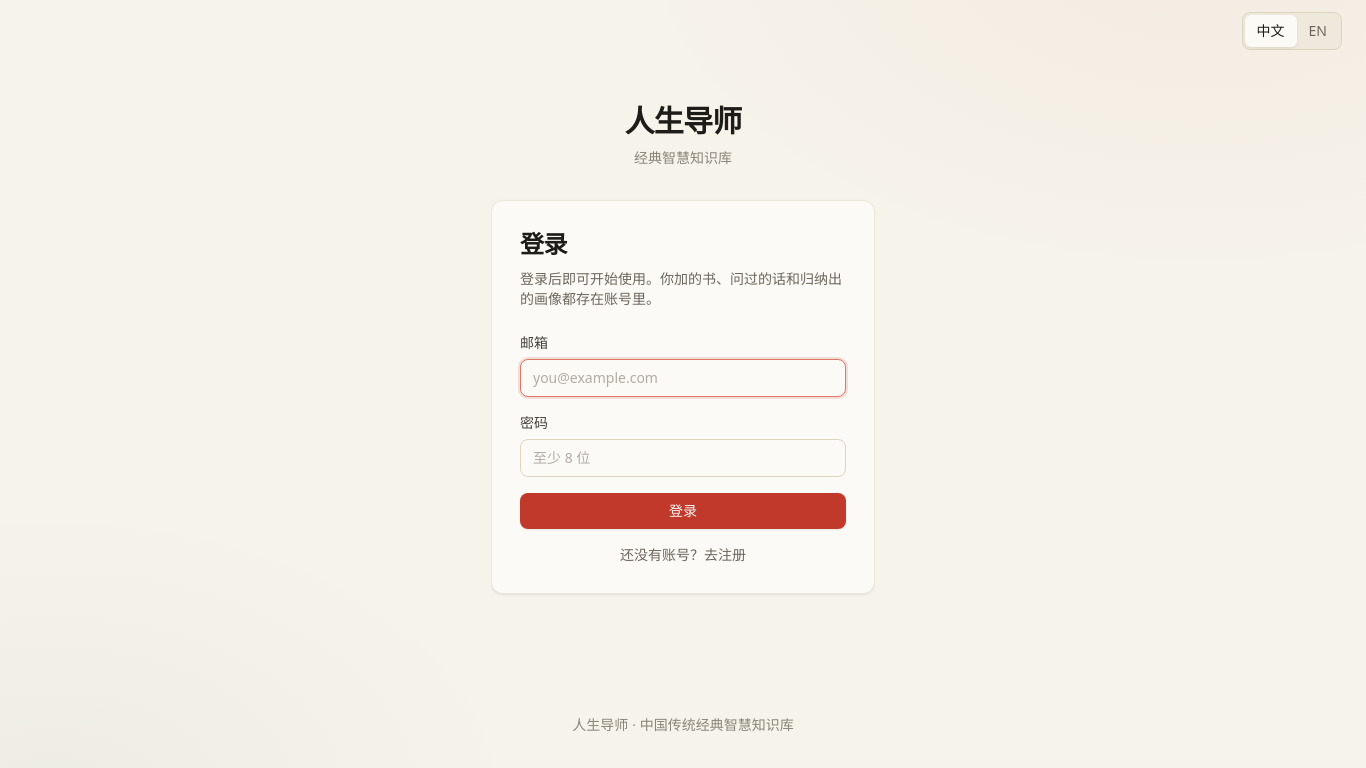
登录完成后回到原来那一页 › 从首页进来的，登完就落在首页
Type "alice@example.com" into the field labelled "邮箱". click: (683, 378)
box: [520,359,846,397]
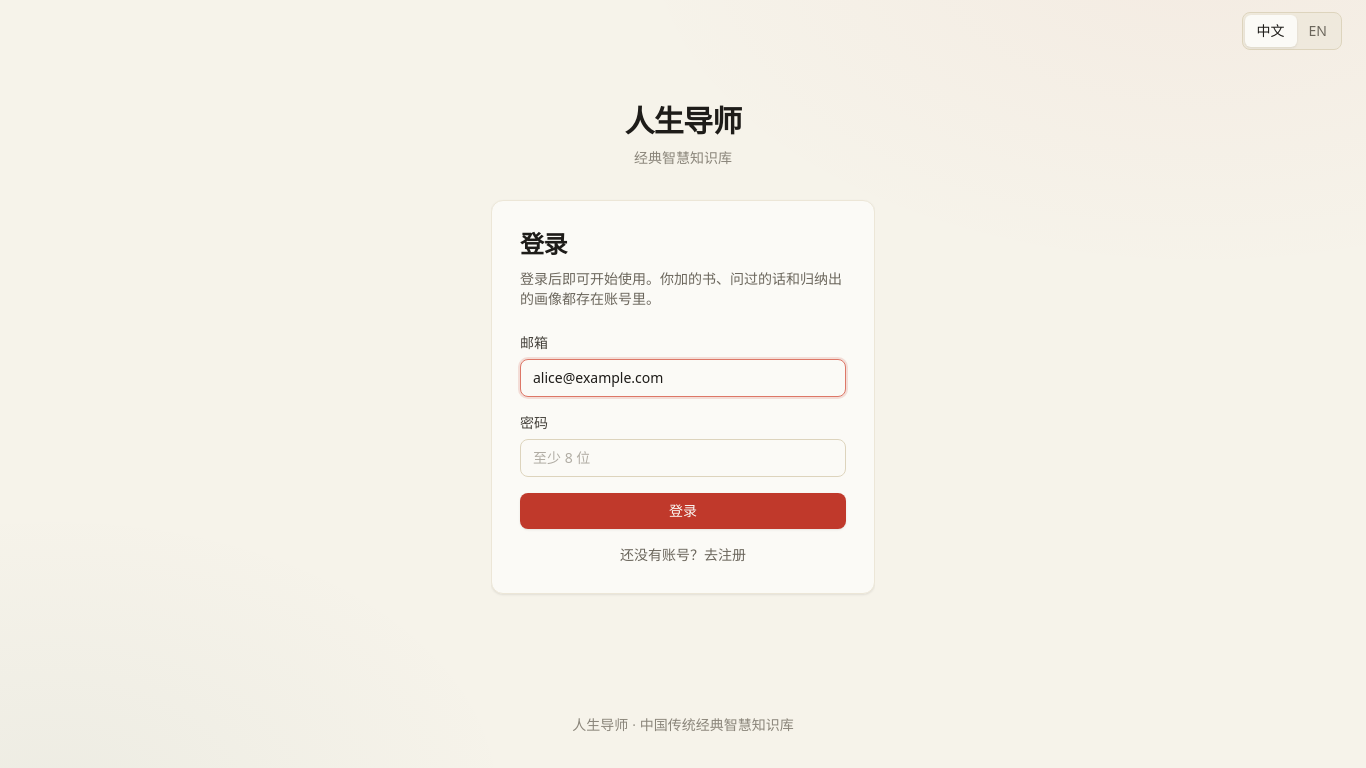
Type "goodpass123" into the password field labelled "密码". click: (683, 458)
box: [520,439,846,477]
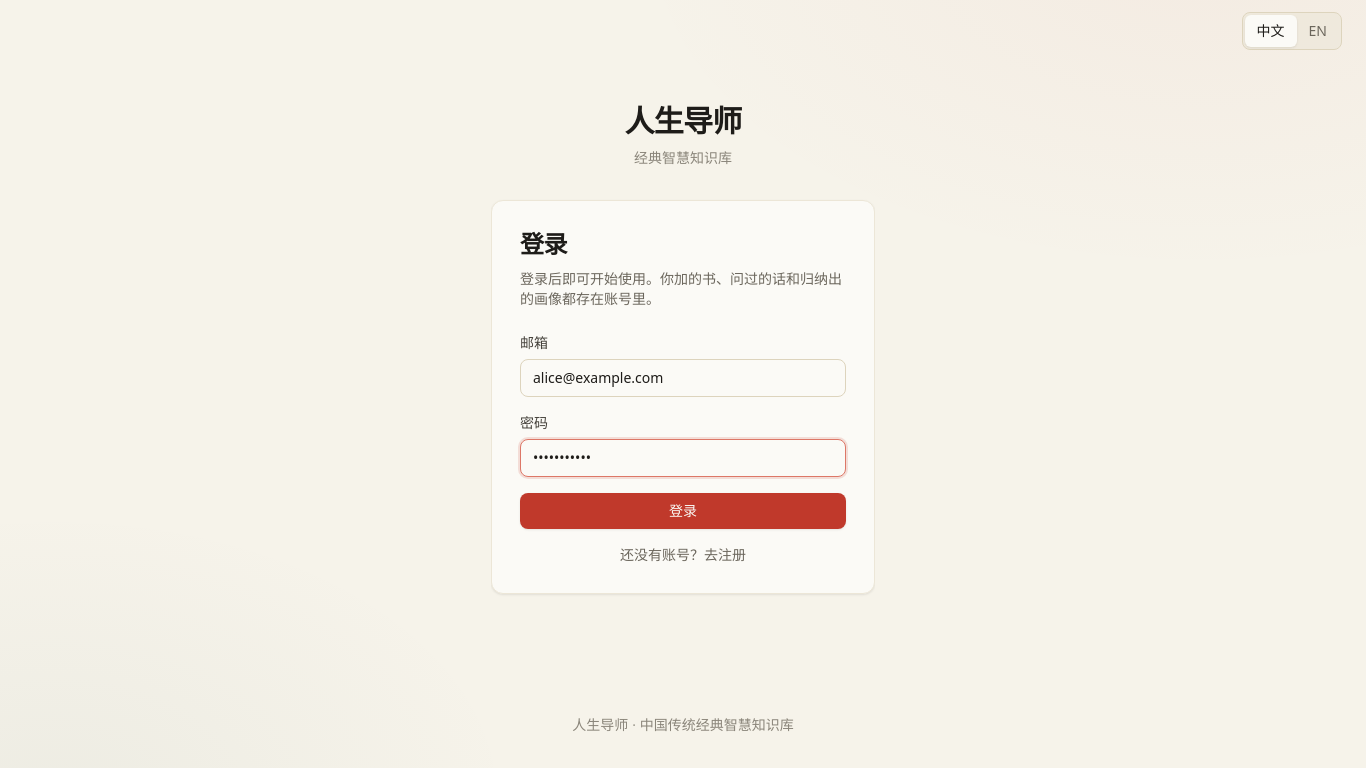
Click the button "登录". click: click(683, 511)
box: [520,493,846,529]
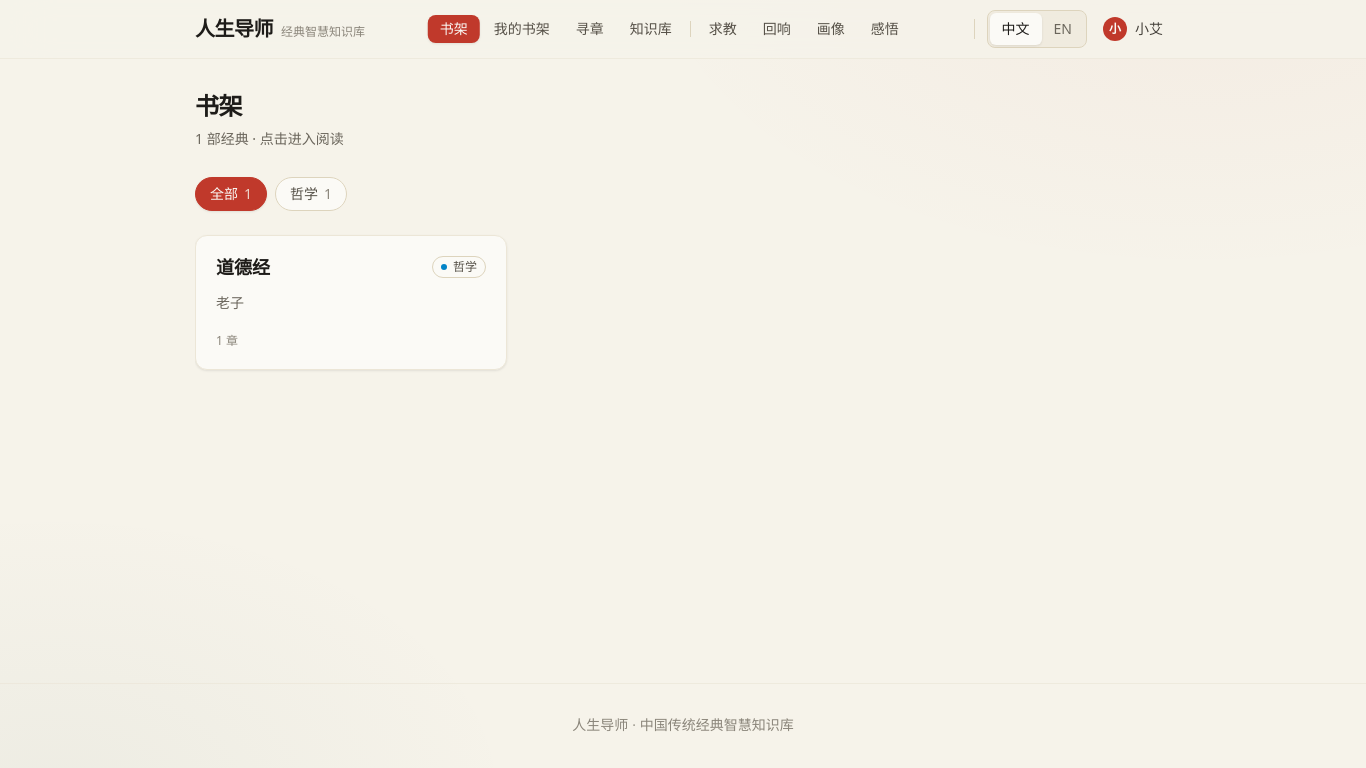
Expected: the heading "道德经" is shown, [216,258,270,278]
